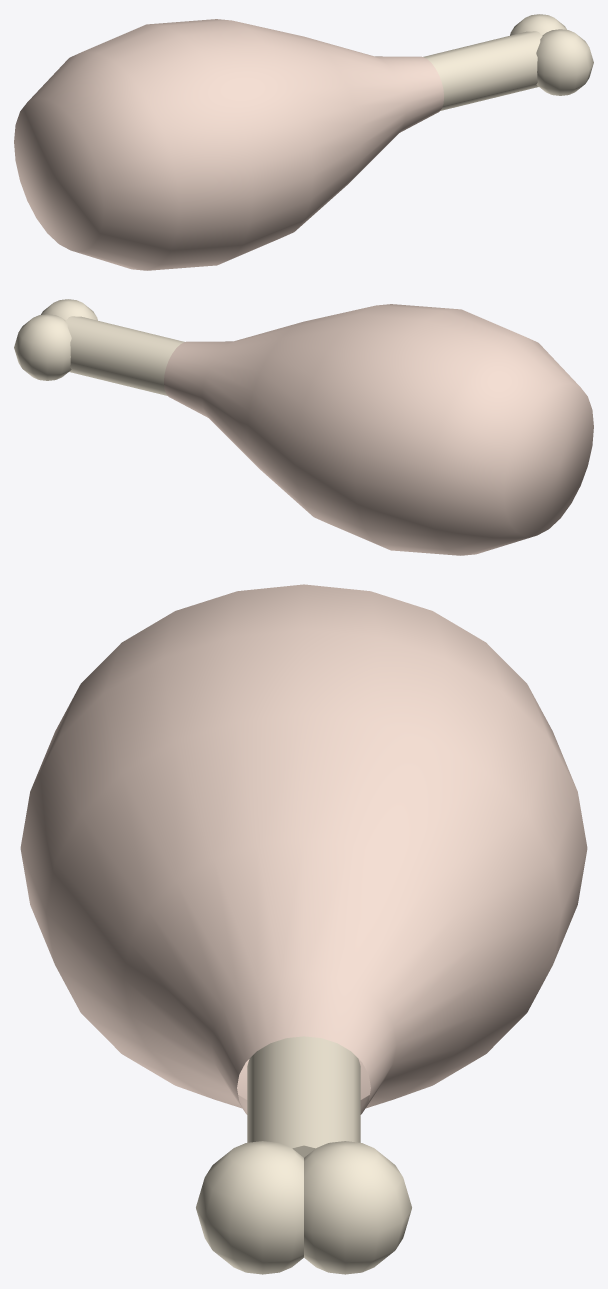
The model's file is DrumstickRaw.glb.
3 views of the same model, one above another, from view 1: azimuth 30°, elevation 25°; view 2: azimuth 150°, elevation 25°; view 3: azimuth 270°, elevation 25° (orthographic). The views are drawn at different scales.
Parts seen in each view (by area): view 1: DrumstickRaw_Body; view 2: DrumstickRaw_Body; view 3: DrumstickRaw_Body.
Boxes of the visible parts, x1=… form: DrumstickRaw_Body: x1=14, y1=14, x2=593, y2=270; DrumstickRaw_Body: x1=14, y1=299, x2=593, y2=555; DrumstickRaw_Body: x1=20, y1=584, x2=587, y2=1274.
Size of the model in its own units: 0.238 by 0.0935 by 0.11.
